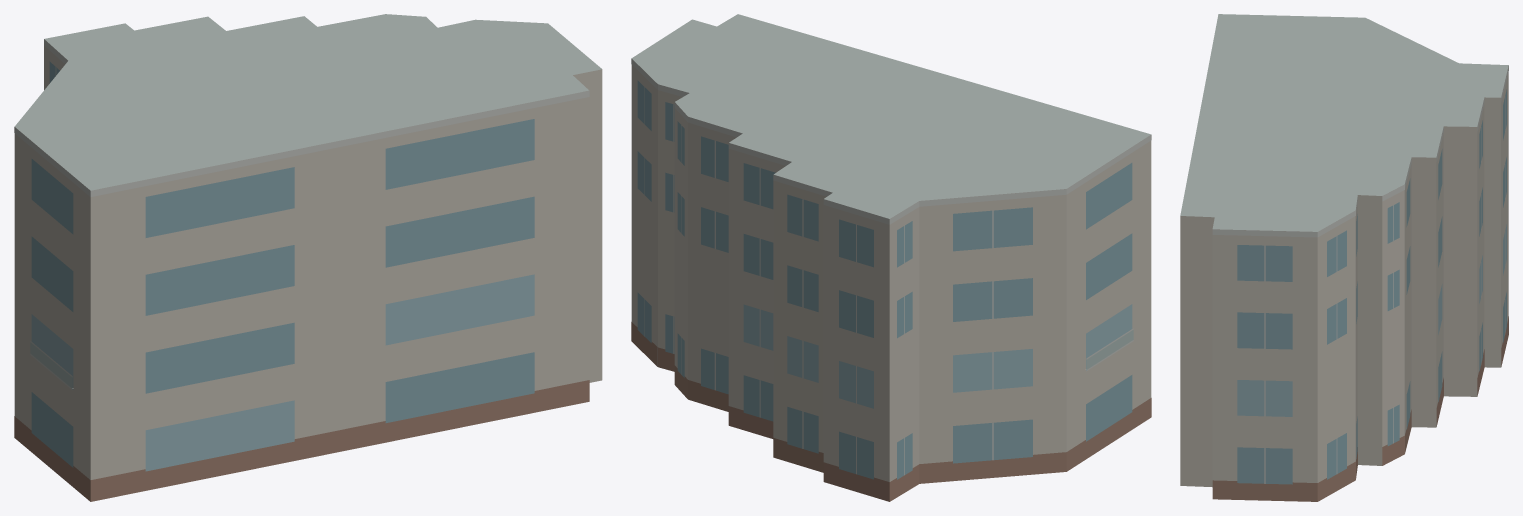
File: survey-upis-32477974.glb
3 views of the same model, side by side, from view 1: azimuth 30°, elevation 25°; view 2: azimuth 150°, elevation 25°; view 3: azimuth 270°, elevation 25° (orthographic). The views are drawn at different scales.
Parts seen in each view (by area): view 1: survey-upis-32477974.tmp; view 2: survey-upis-32477974.tmp; view 3: survey-upis-32477974.tmp.
Boxes of the visible parts, x1,y1,x2,y2 form: survey-upis-32477974.tmp: (14,14,602,501); survey-upis-32477974.tmp: (631,14,1151,501); survey-upis-32477974.tmp: (1180,14,1508,501).
Size of the model in its own units: 20.43 by 11.8 by 13.02.
